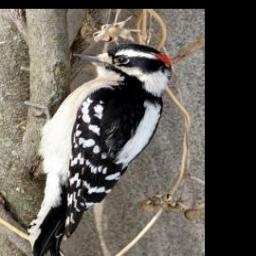Woodpecker: (26, 42, 173, 256)
